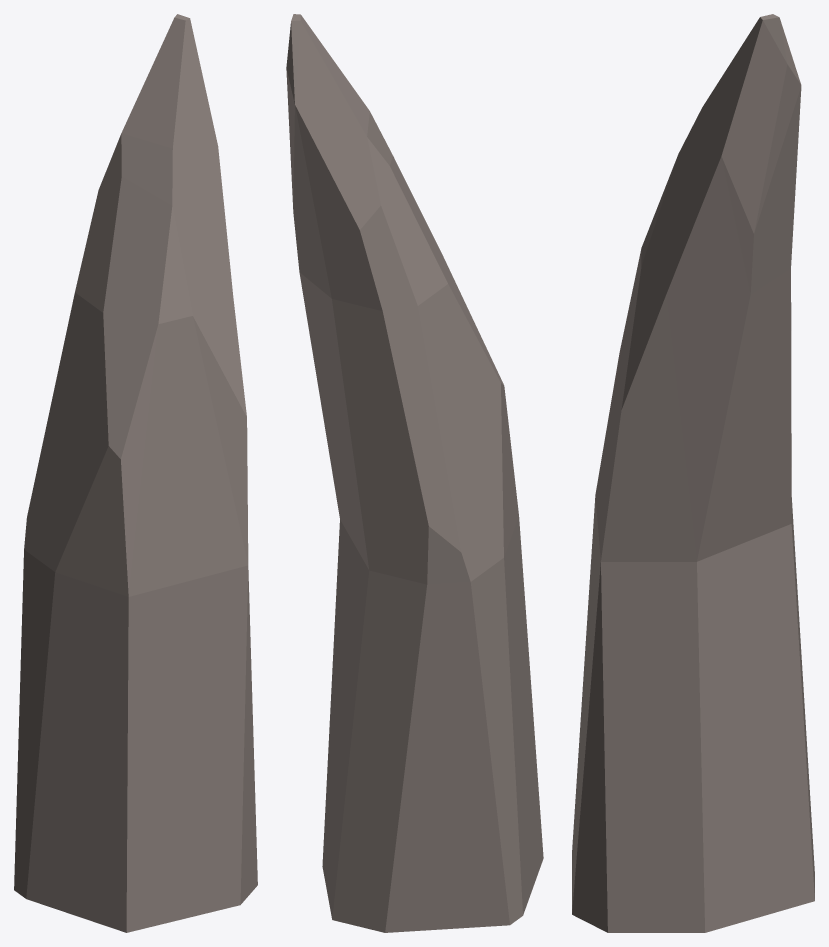
Rendered from Rock_Sharp_m_07.fbx.
3 views of the same model, side by side, from view 1: azimuth 30°, elevation 25°; view 2: azimuth 150°, elevation 25°; view 3: azimuth 270°, elevation 25° (orthographic). The views are drawn at different scales.
Parts seen in each view (by area): view 1: Rock_Sharp_m_07; view 2: Rock_Sharp_m_07; view 3: Rock_Sharp_m_07.
Boxes of the visible parts, x1,y1,x2,y2 form: Rock_Sharp_m_07: (14,14,257,932); Rock_Sharp_m_07: (286,14,543,932); Rock_Sharp_m_07: (572,14,814,932).
Bounding box in the file's own units: 52.92 × 207 × 50.01.
